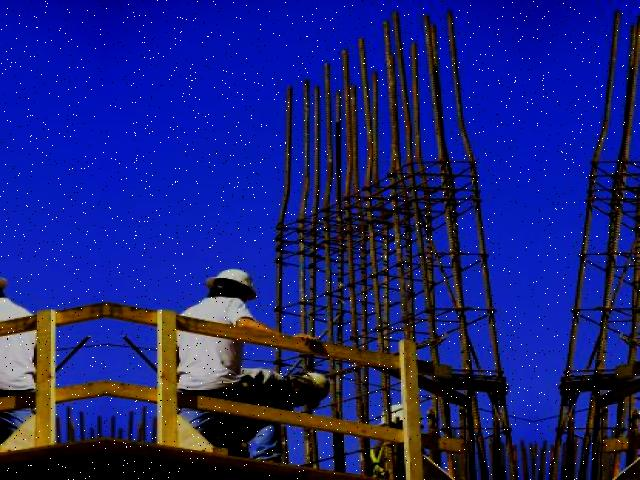Helmet: (200, 265, 259, 304)
